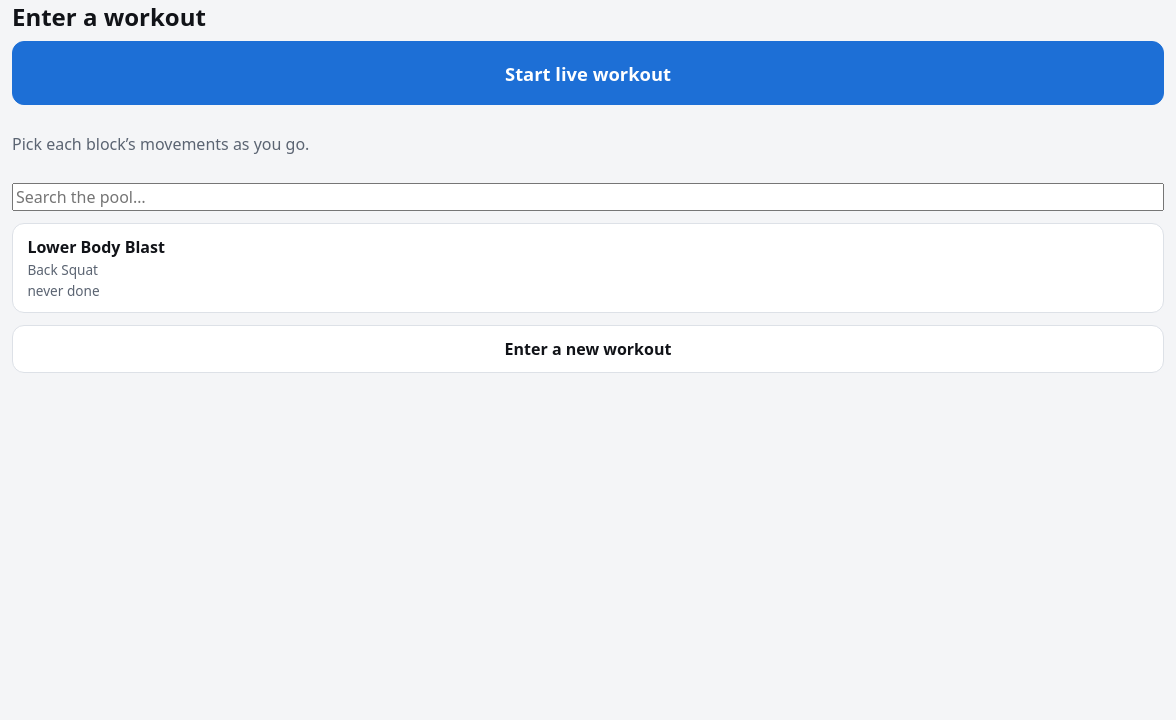
Scenario: EnterWorkout ("/enter" screen, SPEC 10.8) › compose mode › renders all four block titles
The image size is (1176, 720).
Click the button "Enter a new workout".
click(588, 349)  # box [12, 325, 1164, 373]
(page scrolled)
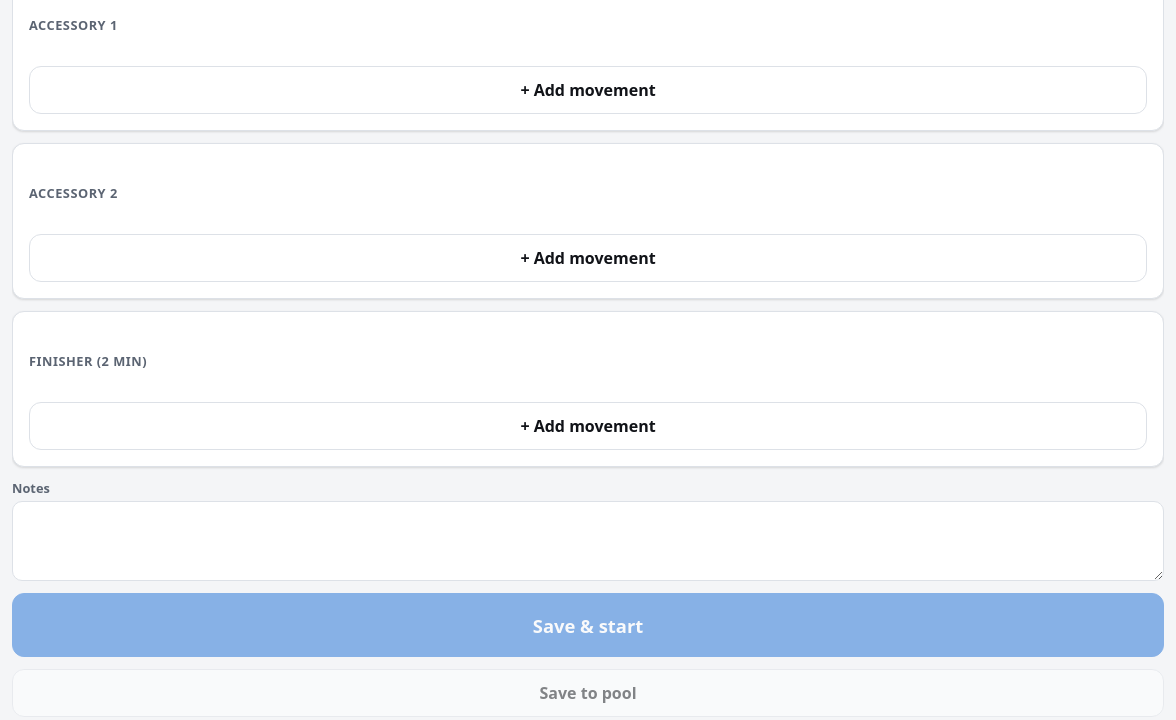
Check: the text "Accessory 1" is shown, box [29, 16, 118, 34]
Check: the text "Accessory 2" is shown, box [29, 184, 118, 202]
Check: the text "Finisher (2 min)" is shown, box [29, 352, 147, 370]
